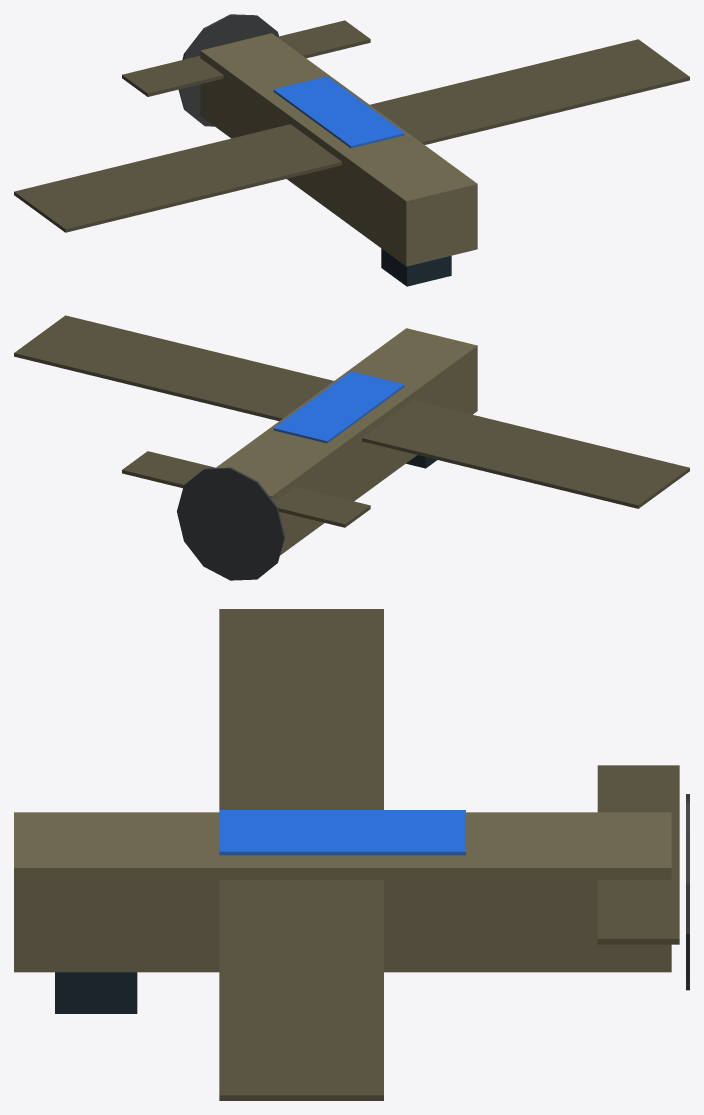
Rendered from us_wingman_drone.glb.
3 renders of one model, top to bottom at view 1: azimuth 30°, elevation 25°; view 2: azimuth 150°, elevation 25°; view 3: azimuth 270°, elevation 25°, orthographic. The views are drawn at different scales.
Visible parts, largest first — view 1: wing, body, team_plate, tail, prop, camera_pod; view 2: wing, body, prop, team_plate, tail; view 3: body, wing, team_plate, tail, camera_pod, prop.
Boxes of the visible parts, x1,y1,x2,y2 form: wing: (14, 39, 689, 232); body: (200, 33, 477, 266); team_plate: (273, 76, 404, 148); tail: (122, 20, 370, 96); prop: (178, 14, 278, 126); camera_pod: (381, 248, 451, 286); wing: (14, 315, 689, 508); body: (215, 328, 477, 555); prop: (177, 467, 284, 580); team_plate: (273, 371, 404, 443); tail: (122, 451, 370, 527); body: (14, 812, 671, 972); wing: (219, 609, 383, 1100); team_plate: (219, 810, 465, 855); tail: (597, 765, 679, 944); camera_pod: (55, 972, 137, 1013); prop: (686, 794, 689, 990).
Size of the model in its own units: 5.6 by 1.04 by 3.29.
